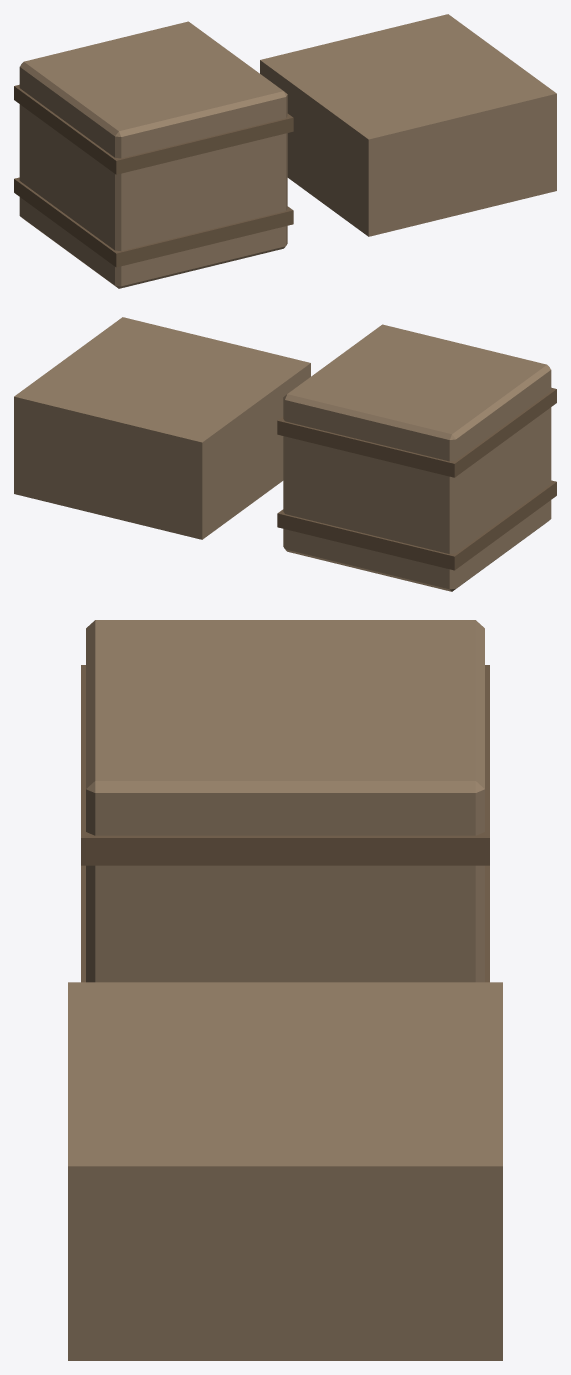
The model's file is LL_Crates.fbx.
The picture shows the model from 3 angles, top to bottom: view 1: azimuth 30°, elevation 25°; view 2: azimuth 150°, elevation 25°; view 3: azimuth 270°, elevation 25°; orthographic projection. The views are drawn at different scales.
Visible parts, largest first — view 1: LL_Crate_Closed, LL_Crate_Open, LL_Crate_Slat_22, LL_Crate_Slat_62; view 2: LL_Crate_Closed, LL_Crate_Open, LL_Crate_Slat_22, LL_Crate_Slat_62; view 3: LL_Crate_Open, LL_Crate_Closed, LL_Crate_Slat_62, LL_Crate_Slat_22.
Part boxes in pixels (x1,y1,x2,y2): LL_Crate_Closed: (19, 21, 287, 288); LL_Crate_Open: (260, 14, 556, 236); LL_Crate_Slat_22: (14, 177, 293, 267); LL_Crate_Slat_62: (14, 84, 293, 174); LL_Crate_Closed: (283, 324, 551, 591); LL_Crate_Open: (14, 317, 310, 539); LL_Crate_Slat_22: (277, 480, 556, 570); LL_Crate_Slat_62: (277, 387, 556, 477); LL_Crate_Open: (68, 982, 502, 1360); LL_Crate_Closed: (86, 620, 484, 982); LL_Crate_Slat_62: (81, 665, 489, 865); LL_Crate_Slat_22: (81, 865, 489, 982).
Bounding box in the file's own units: 1.98 × 0.69 × 0.85.
